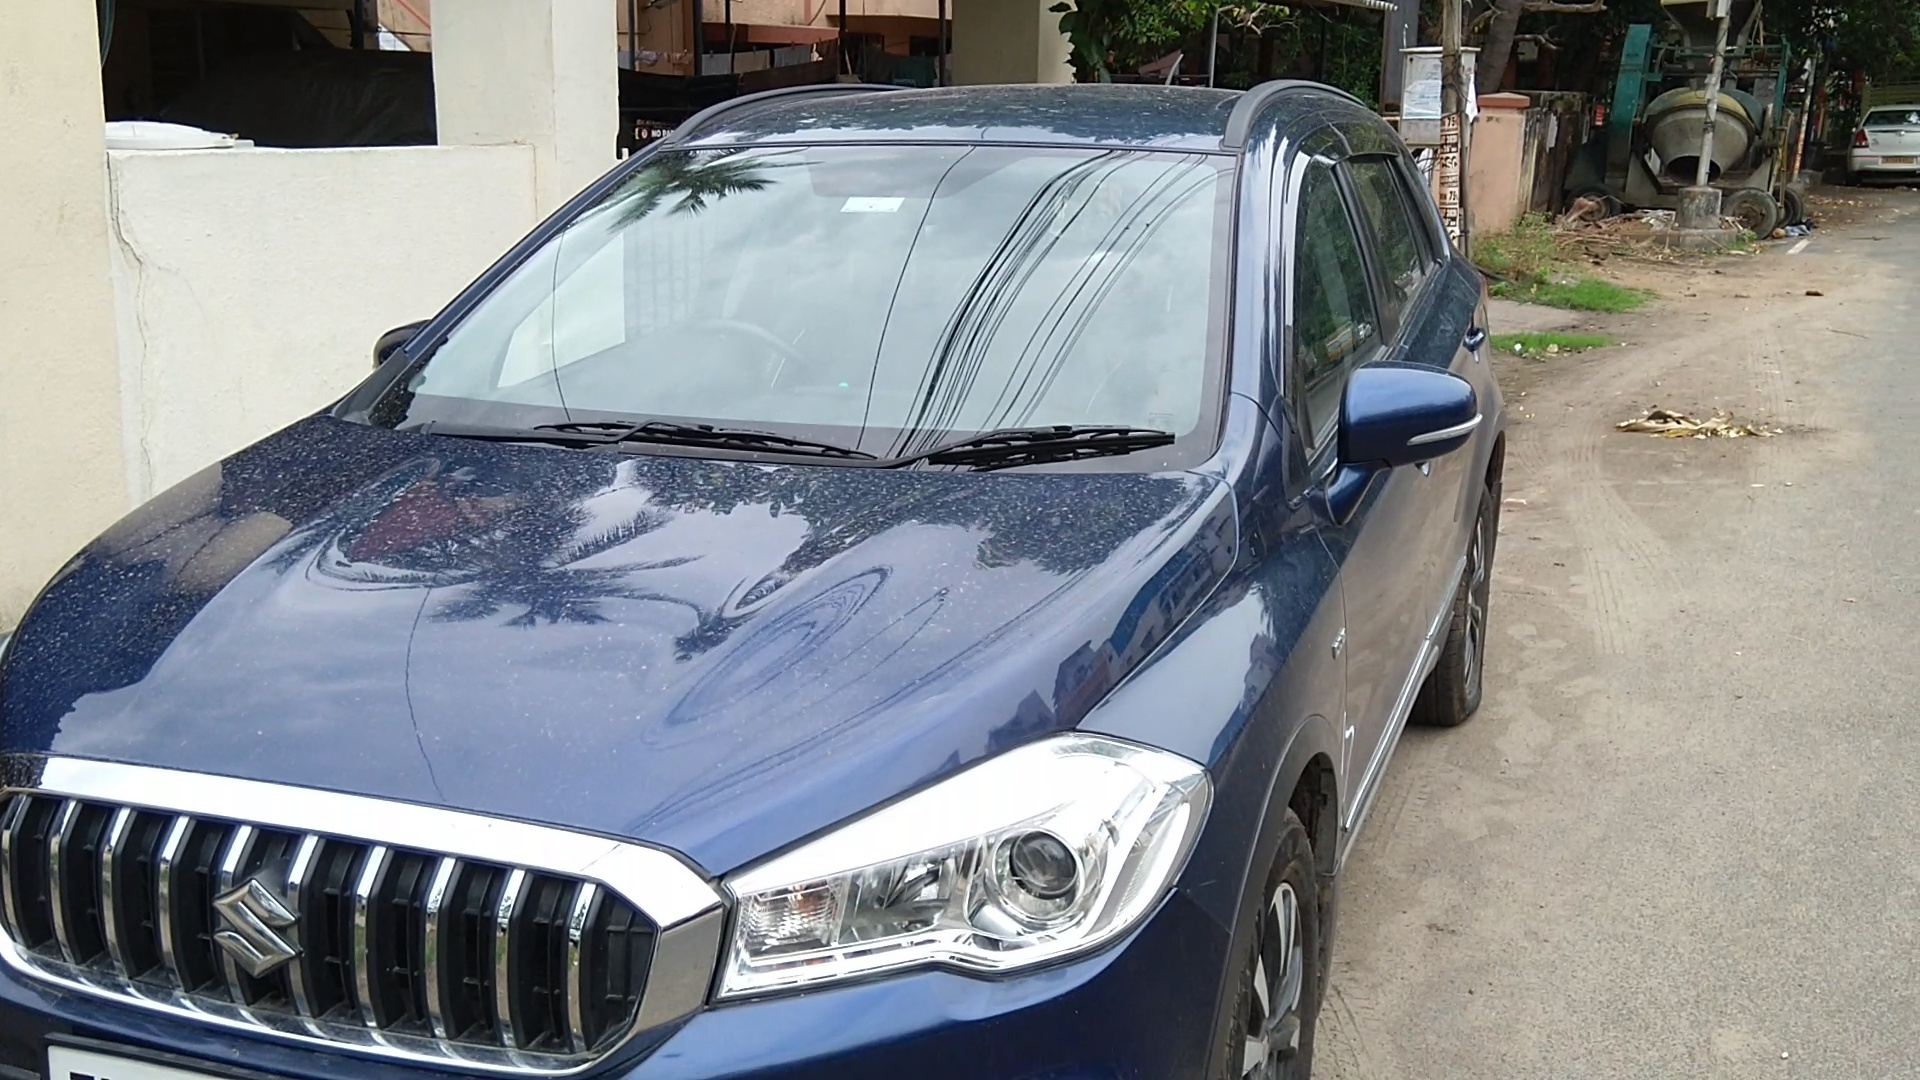front_grill: (5, 740, 711, 1080)
headlamp: (717, 708, 1226, 1029)
ovr_mirror: (1332, 355, 1485, 477)
